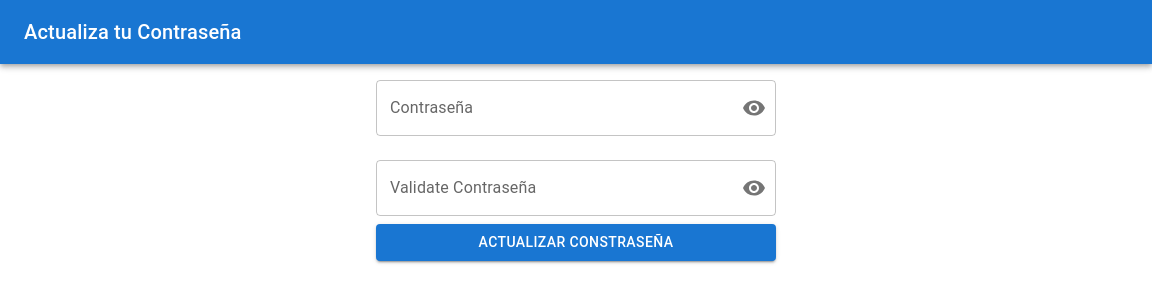
Scenario: UpdatePassword › shows error if token is missing
The image size is (1152, 301).
Type "ValidPass123!" into the password field labelled "Contraseña" at coordinates (551, 108), box 376,80 -> 726,136
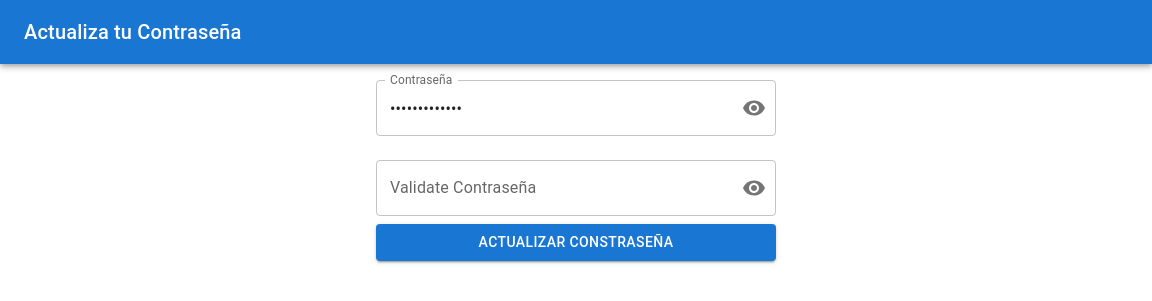
Type "ValidPass123!" into the password field labelled "Validate Contraseña" at coordinates (551, 188), box 376,160 -> 726,216
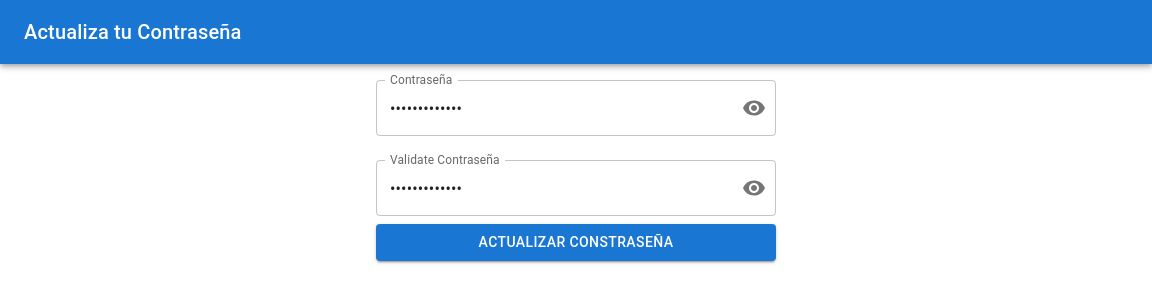
Click the button "Actualizar Constraseña" at coordinates (576, 242), box 376,224 -> 776,260
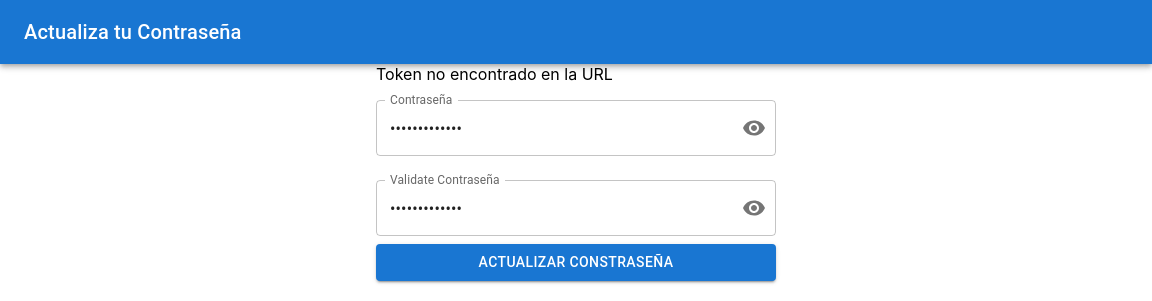
Expected: the text "Token no encontrado en la URL" is shown, 376,64 -> 613,84
